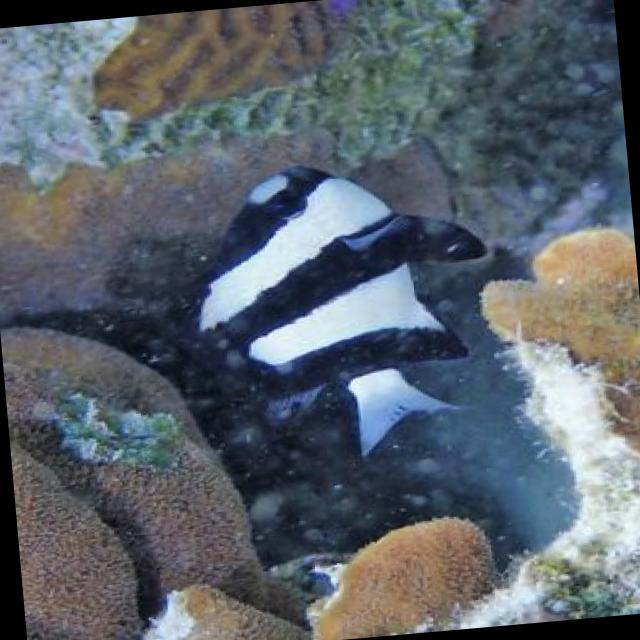ThreeStripedDamselfish: (199, 164, 489, 454)
